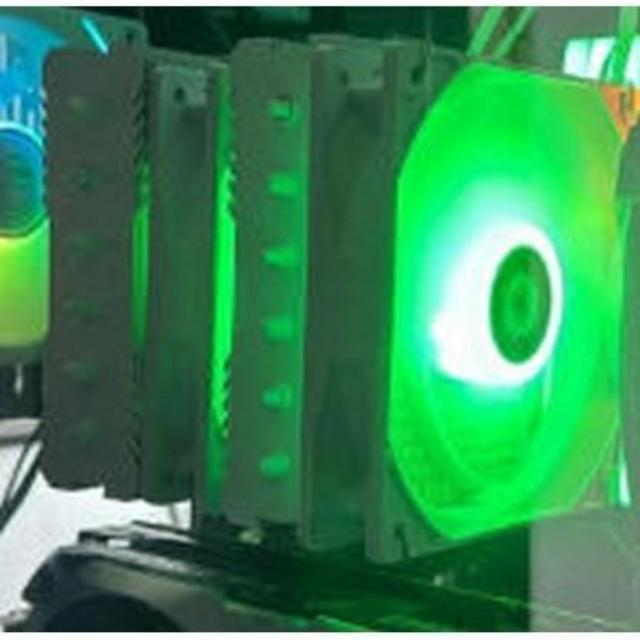CPU_Fan: (50, 46, 628, 540)
